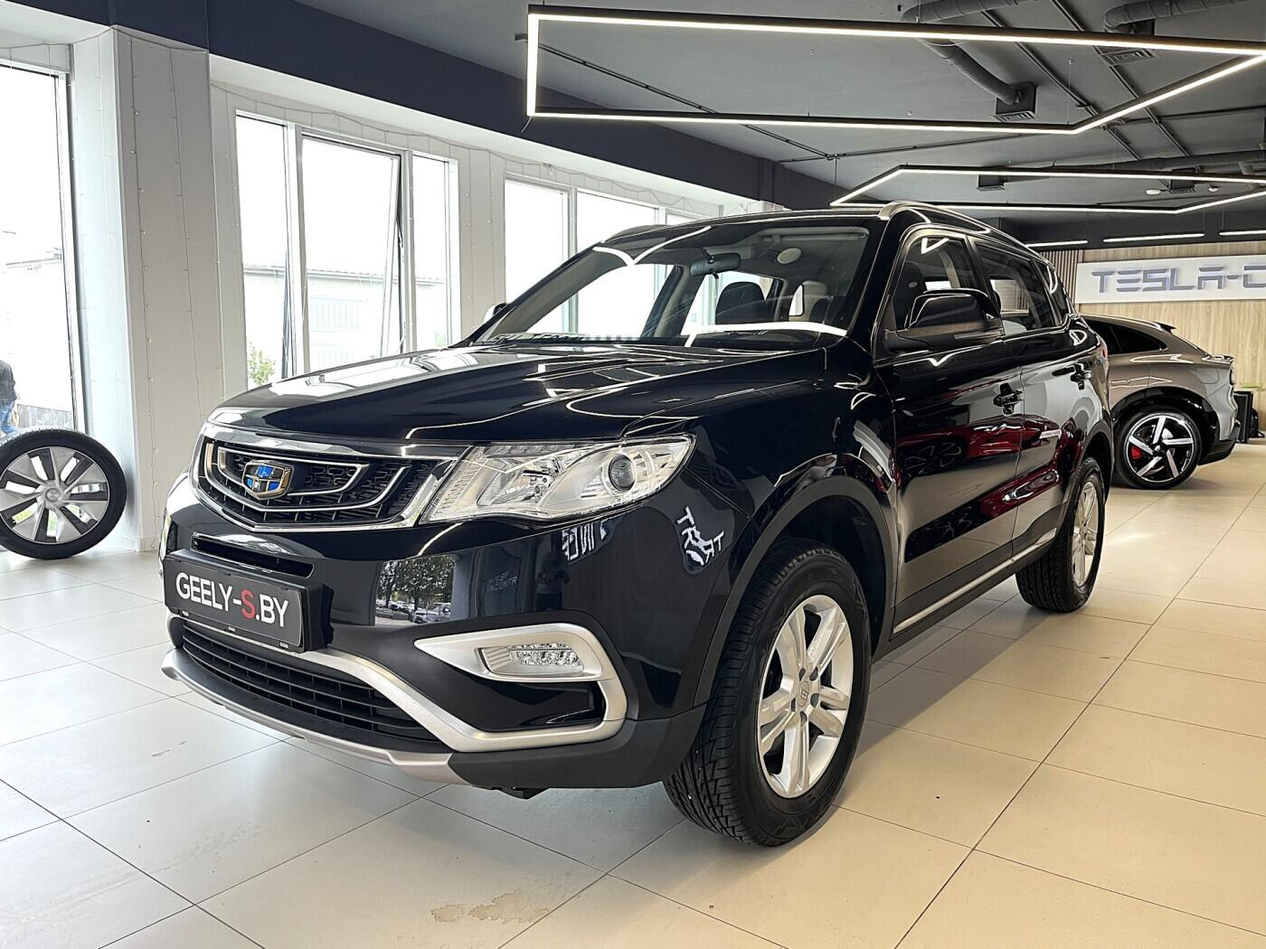Atlas_2016-2023: (152, 183, 1117, 851)
